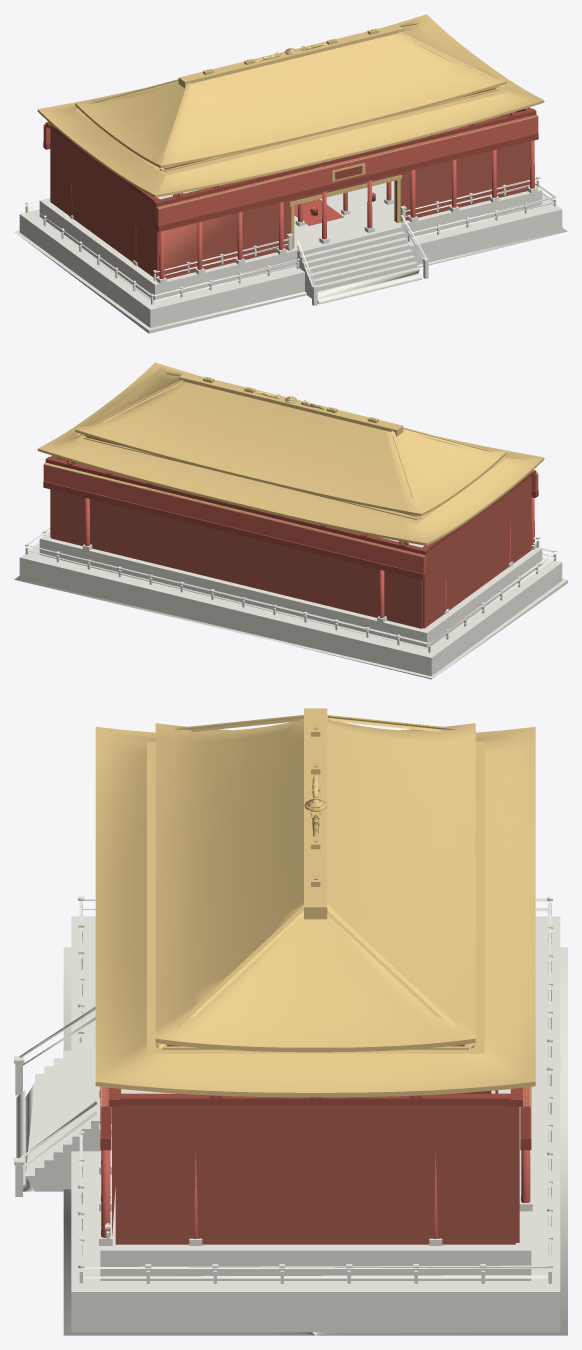
Rendered from lib_dien_dai.lod.glb.
3 views of the same model, one above another, from view 1: azimuth 30°, elevation 25°; view 2: azimuth 150°, elevation 25°; view 3: azimuth 270°, elevation 25° (orthographic). The views are drawn at different scales.
Parts seen in each view (by area): view 1: dien_dai_dai; view 2: dien_dai_dai; view 3: dien_dai_dai.
Part boxes in pixels (x1=…): dien_dai_dai: x1=14, y1=14, x2=567, y2=333; dien_dai_dai: x1=14, y1=362, x2=567, y2=679; dien_dai_dai: x1=14, y1=708, x2=567, y2=1335.
Size of the model in its own units: 40.7 by 17.1 by 24.93.
1 material, 1 textured.
